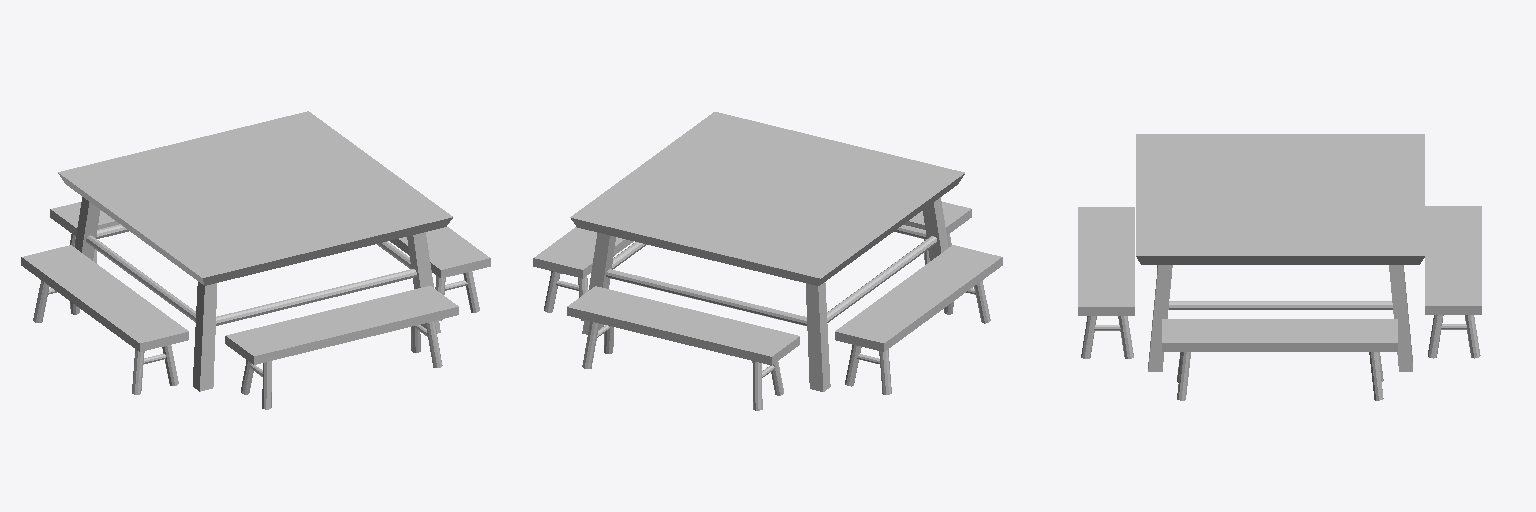
Rendered from Dask&chair1.obj.
3 renders of one model, left to right at view 1: azimuth 30°, elevation 25°; view 2: azimuth 150°, elevation 25°; view 3: azimuth 270°, elevation 25°, orthographic.
Parts seen in each view (by area): view 1: pCube258, pCylinder233, pCylinder232, pCylinder231, pCylinder234; view 2: pCube258, pCylinder234, pCylinder232, pCylinder231, pCylinder233; view 3: pCube258, pCylinder231, pCylinder233, pCylinder234.
Boxes of the visible parts, box(x1,y1,x2,y2) form: pCube258: box(58, 111, 452, 391); pCylinder233: box(225, 286, 458, 409); pCylinder232: box(21, 245, 188, 394); pCylinder231: box(390, 227, 490, 320); pCylinder234: box(50, 202, 118, 263); pCube258: box(570, 112, 964, 391); pCylinder234: box(567, 286, 799, 410); pCylinder232: box(835, 245, 1002, 394); pCylinder231: box(533, 227, 633, 320); pCylinder233: box(903, 202, 971, 264); pCube258: box(1136, 134, 1424, 371); pCylinder231: box(1162, 319, 1397, 400); pCylinder233: box(1078, 207, 1134, 358); pCylinder234: box(1425, 206, 1481, 358).
Size of the model in its own units: 270 by 89.9 by 269.